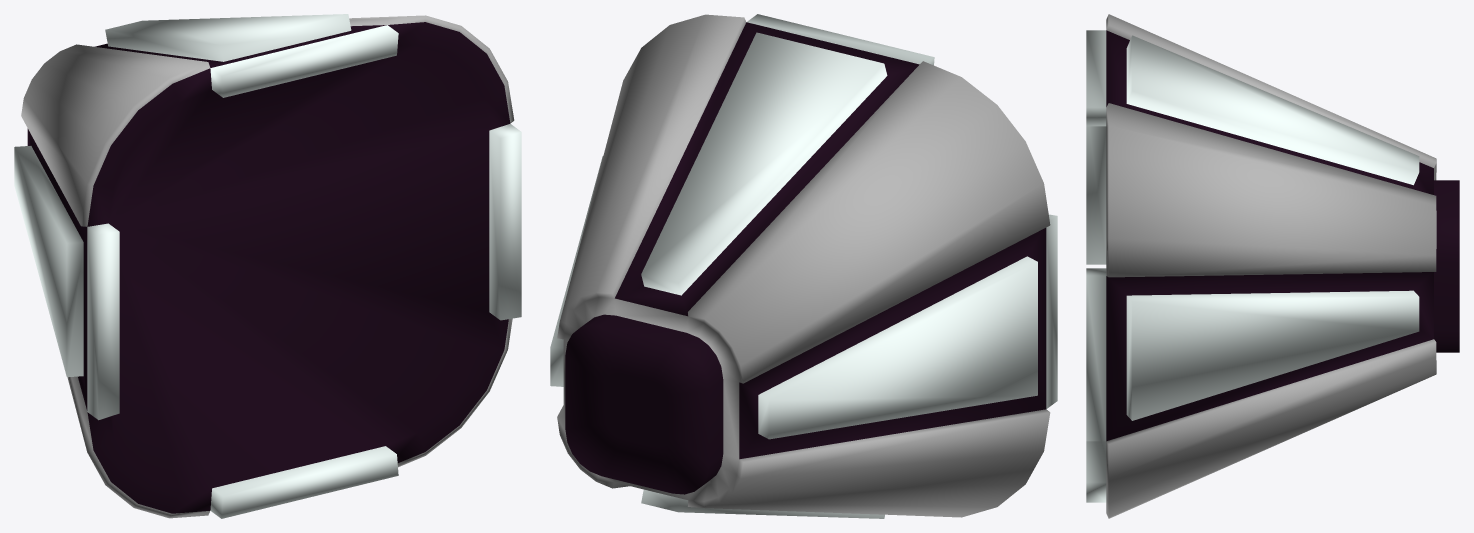
Rendered from shield_emitter.fbx.
3 views of the same model, side by side, from view 1: azimuth 30°, elevation 25°; view 2: azimuth 150°, elevation 25°; view 3: azimuth 270°, elevation 25° (orthographic). The views are drawn at different scales.
Visible parts, largest first — view 1: Cube; view 2: Cube; view 3: Cube.
Part boxes in pixels (x1=…): Cube: x1=14, y1=14, x2=521, y2=518; Cube: x1=550, y1=14, x2=1057, y2=518; Cube: x1=1086, y1=14, x2=1459, y2=518.
Bounding box in the file's own units: 206 × 206 × 171.
